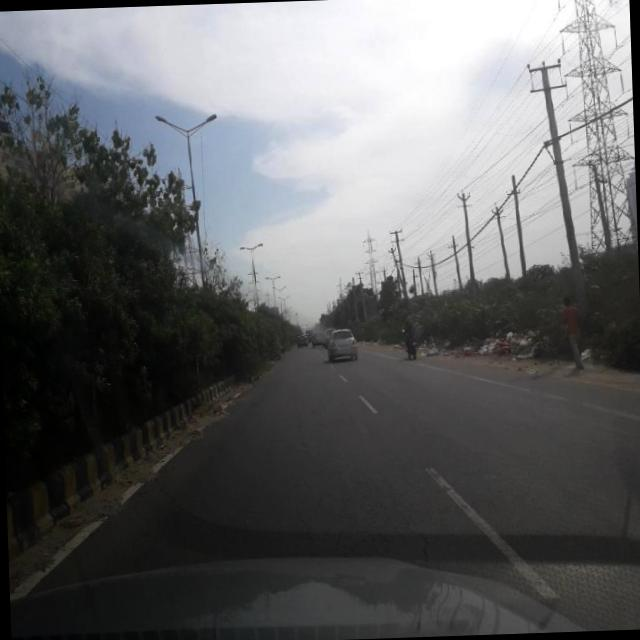crack: (210, 384, 476, 578)
